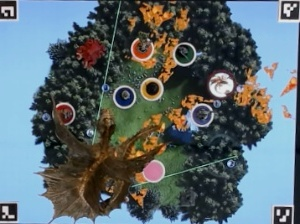blue: (111, 82, 136, 109)
green: (171, 39, 197, 66)
orange: (130, 34, 157, 60)
pink: (142, 157, 168, 184)
red: (52, 101, 75, 126)
violet: (188, 101, 216, 128)
yellow: (140, 74, 167, 100)
